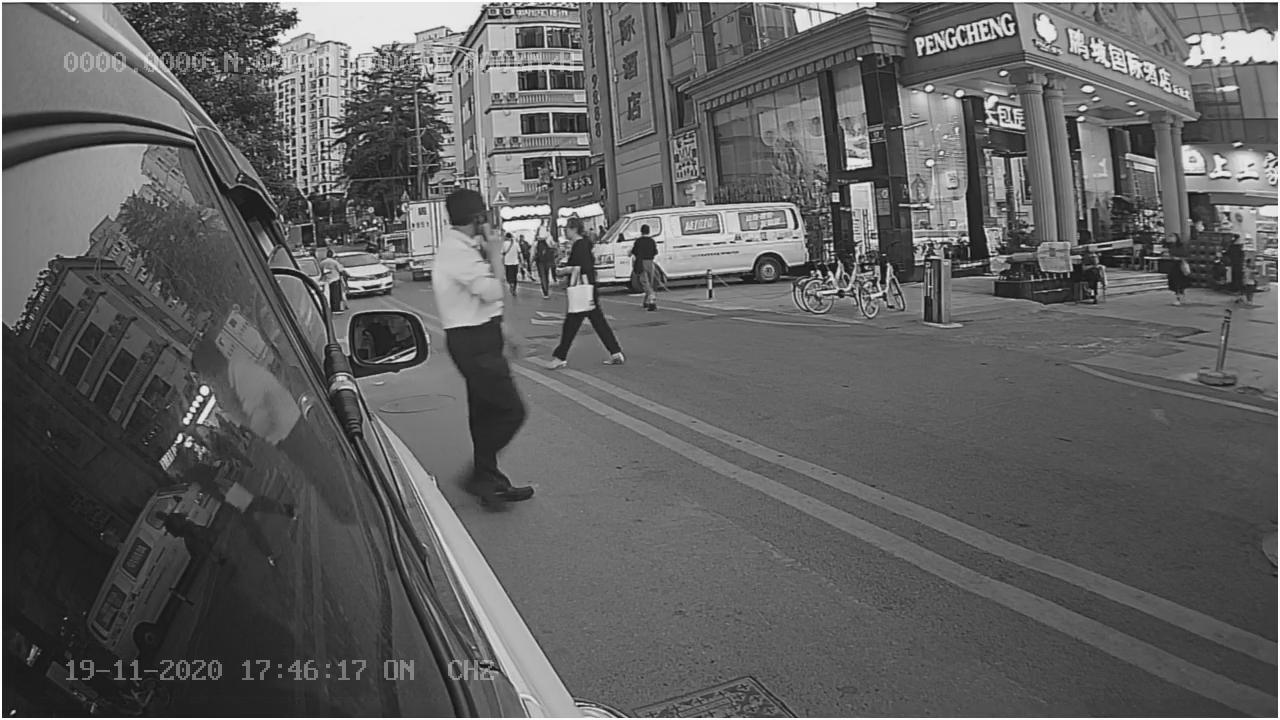person: (431, 188, 531, 480)
